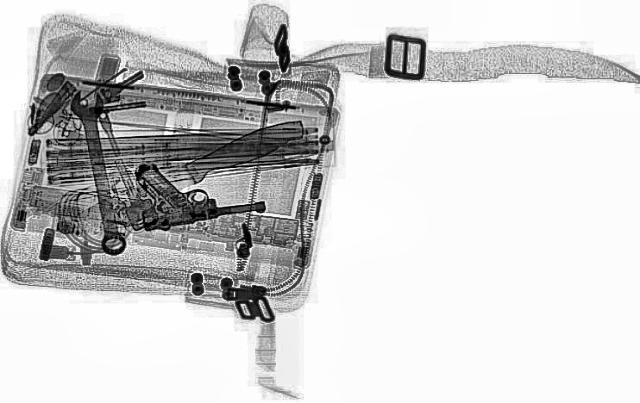Gun: (116, 150, 270, 232)
Knife: (67, 114, 313, 232)
Wrench: (69, 90, 129, 254)
